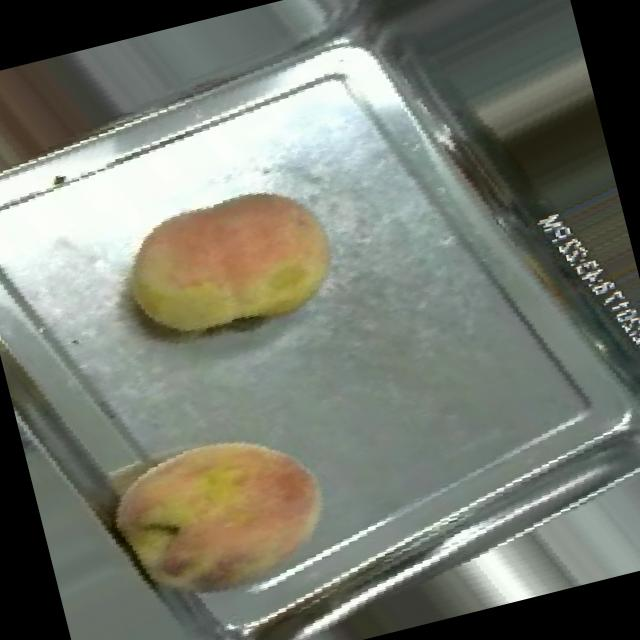Fruit: (67, 380, 375, 640), (83, 142, 371, 390), (0, 42, 144, 224)
